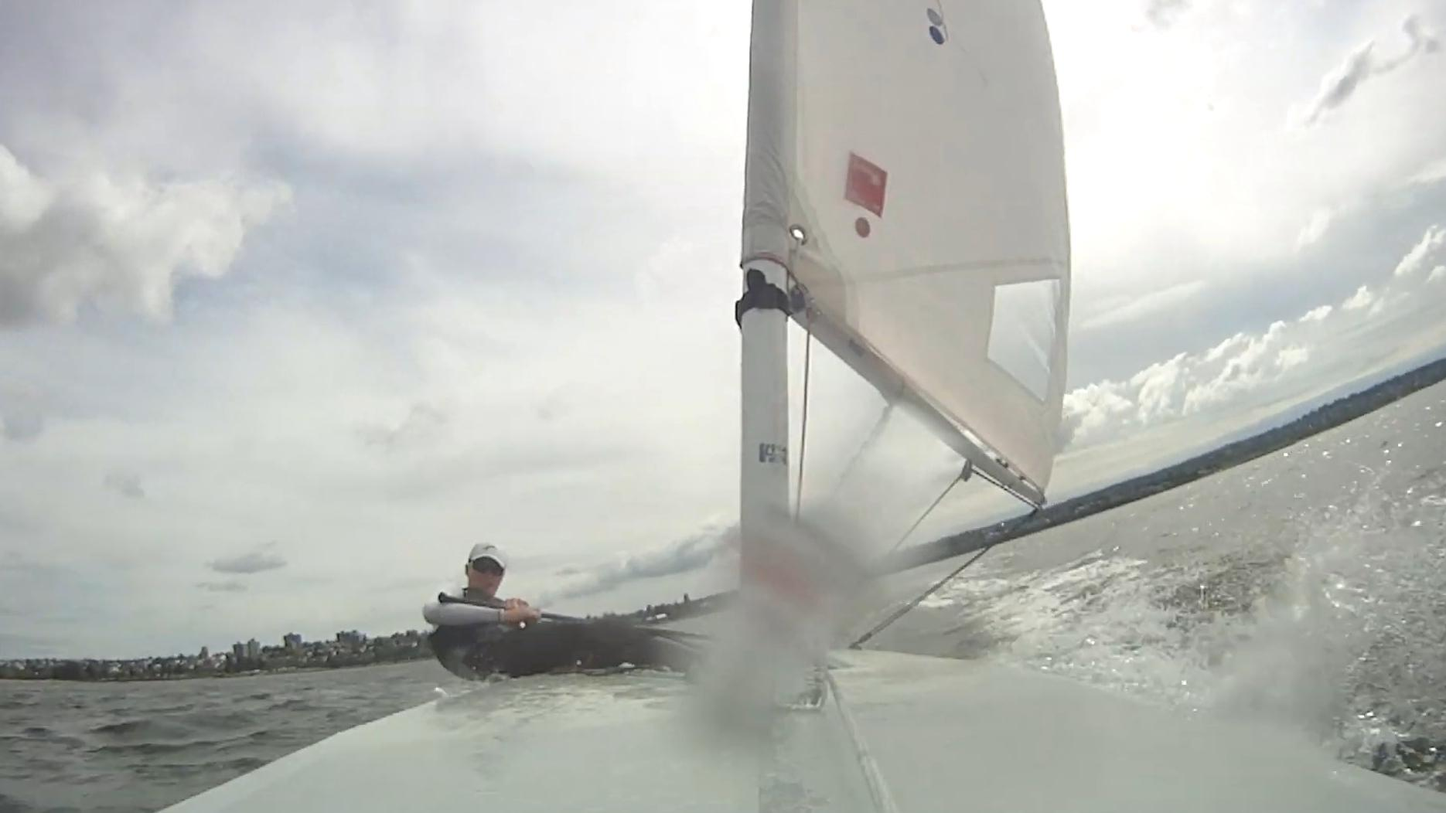boat: (157, 0, 1446, 813)
land: (936, 361, 1446, 556), (0, 632, 431, 682)
person: (423, 545, 695, 684)
sea: (843, 378, 1446, 794), (0, 660, 462, 813), (676, 607, 735, 648)
sky: (0, 0, 755, 662), (1036, 0, 1446, 504), (789, 332, 1013, 563)
